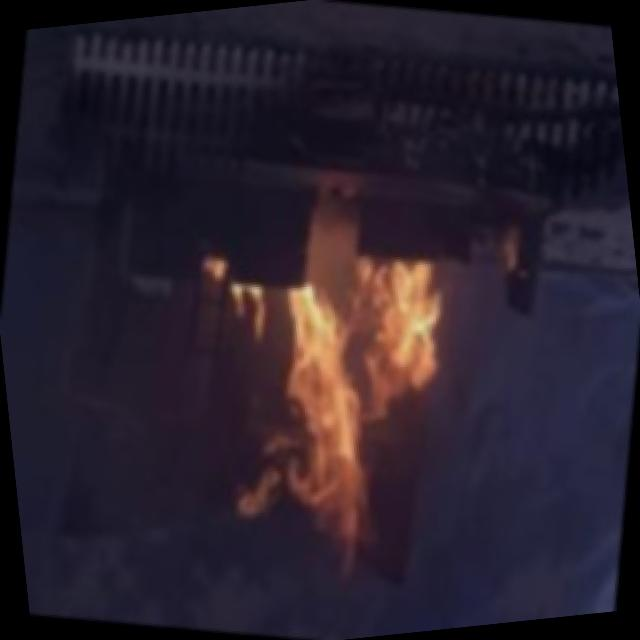fire: (148, 197, 501, 608)
